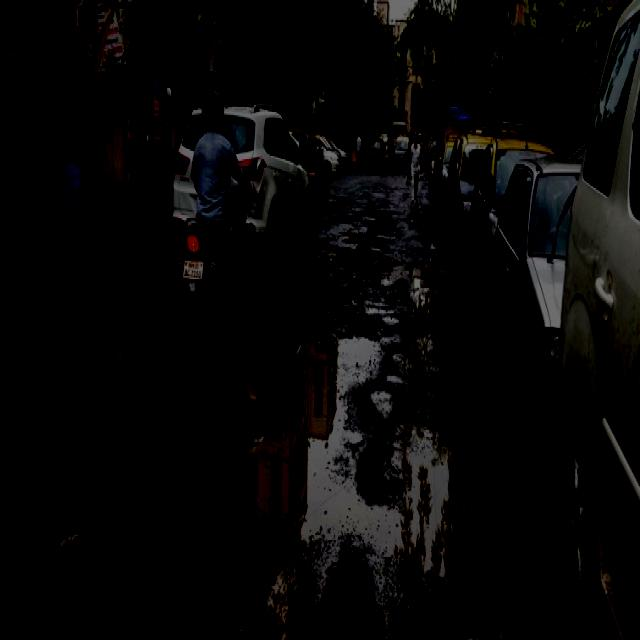Pothole: (235, 348, 488, 617)
